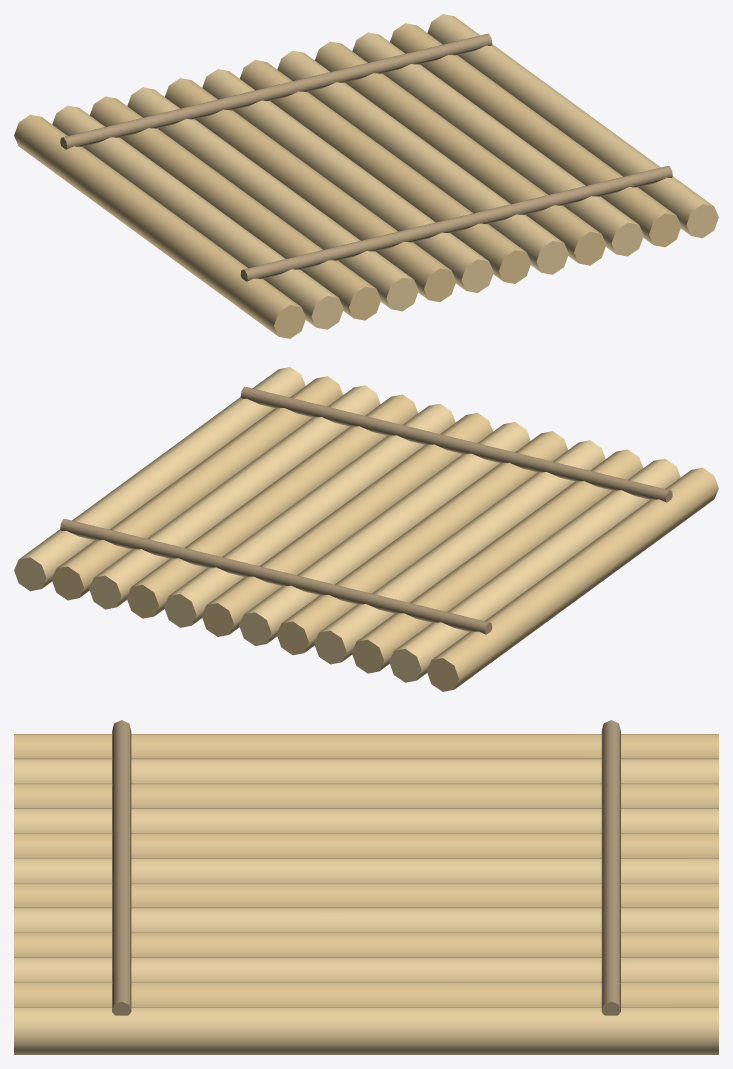
3 views of the same model, one above another, from view 1: azimuth 30°, elevation 25°; view 2: azimuth 150°, elevation 25°; view 3: azimuth 270°, elevation 25° (orthographic). The views are drawn at different scales.
Visible parts, largest first — view 1: bamboo_0, bamboo_11, bamboo_7, bamboo_8, bamboo_2, bamboo_1, bamboo_4, bamboo_9, bamboo_3, bamboo_6, bamboo_5, bamboo_10 (+2 smaller); view 2: bamboo_0, bamboo_11, bamboo_7, bamboo_8, bamboo_2, bamboo_1, bamboo_4, bamboo_9, bamboo_3, bamboo_6, bamboo_5, bamboo_10 (+2 smaller); view 3: bamboo_11, bamboo_2, bamboo_8, bamboo_1, bamboo_3, bamboo_7, bamboo_9, bamboo_4, bamboo_10, bamboo_0, bamboo_5, bamboo_6 (+2 smaller).
Boxes of the visible parts, x1,y1,x2,y2 form: bamboo_0: (14,114,306,338); bamboo_11: (427,14,718,238); bamboo_7: (277,50,568,274); bamboo_8: (315,41,606,265); bamboo_2: (90,96,381,320); bamboo_1: (52,105,343,329); bamboo_4: (165,78,456,302); bamboo_9: (352,32,643,256); bamboo_3: (127,87,418,311); bamboo_6: (240,60,531,283); bamboo_5: (202,69,493,292); bamboo_10: (390,23,681,247); bamboo_0: (426,467,718,691); bamboo_11: (14,367,305,591); bamboo_7: (164,403,455,627); bamboo_8: (126,394,417,618); bamboo_2: (351,449,642,673); bamboo_1: (389,458,680,682); bamboo_4: (276,431,567,655); bamboo_9: (89,385,380,609); bamboo_3: (314,440,605,664); bamboo_6: (201,413,492,636); bamboo_5: (239,422,530,645); bamboo_10: (51,376,342,600); bamboo_11: (14,1007,718,1054); bamboo_2: (14,783,718,808); bamboo_8: (14,932,718,957); bamboo_1: (14,758,718,783); bamboo_3: (14,808,718,833); bamboo_7: (14,907,718,932); bamboo_9: (14,957,718,982); bamboo_4: (14,833,718,857); bamboo_10: (14,982,718,1006); bamboo_0: (14,734,718,758); bamboo_5: (14,858,718,882); bamboo_6: (14,883,718,907).
Bounding box in the file's own units: 0.712 × 0.064 × 0.72.
